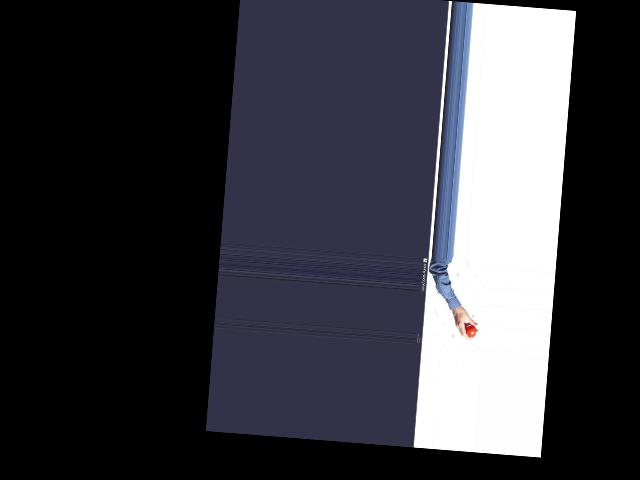tomato: (465, 325, 476, 338)
